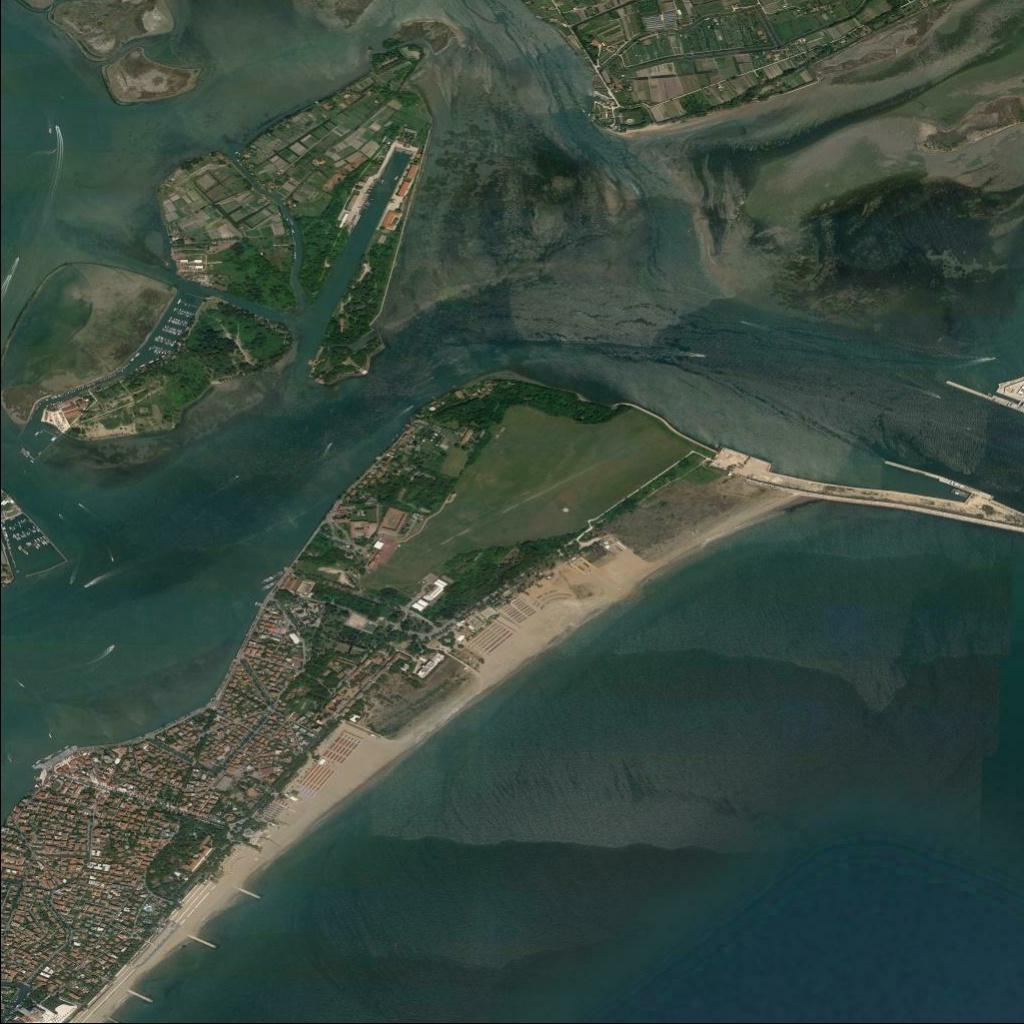harbor: (884, 459, 993, 501), (946, 379, 1024, 412), (147, 346, 174, 358), (176, 299, 200, 312), (154, 334, 178, 347), (161, 325, 184, 338), (173, 307, 196, 319), (168, 316, 189, 328)
